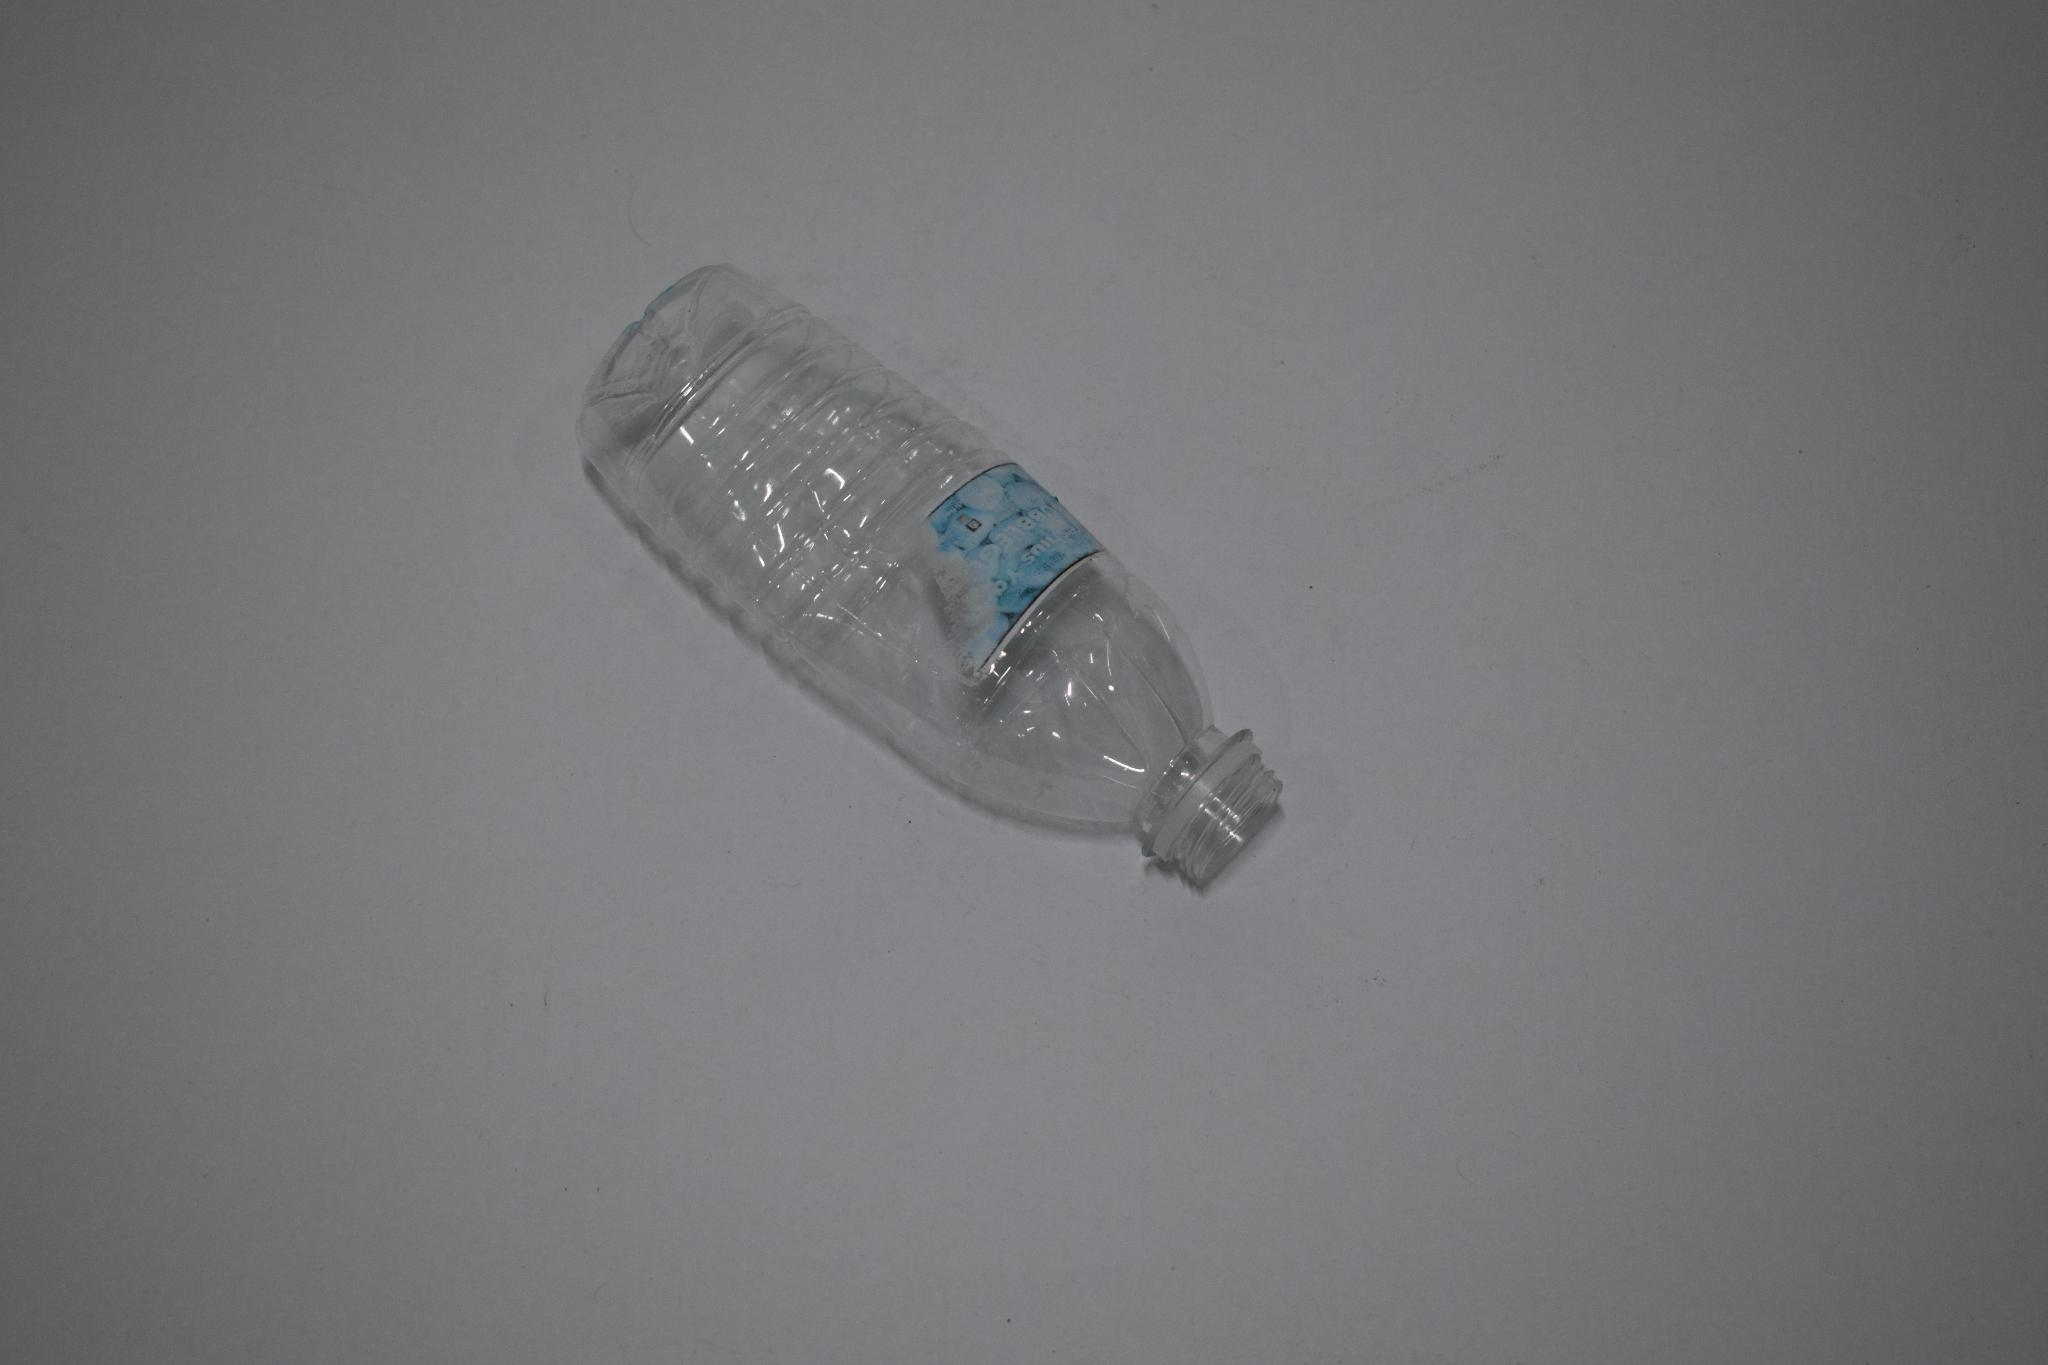bottle: (513, 253, 1316, 894)
